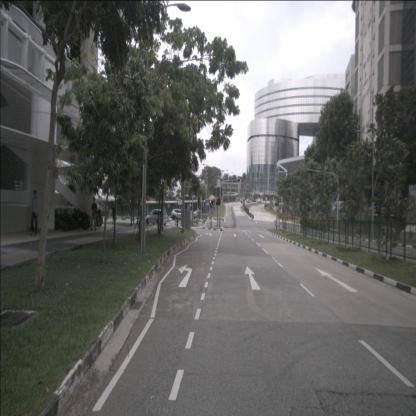human-pedestrian-adult: (31, 190, 39, 236), (90, 197, 98, 231), (112, 205, 116, 224), (98, 206, 101, 220)
vehicle-car: (145, 209, 168, 225), (170, 209, 186, 219), (192, 210, 208, 219)
